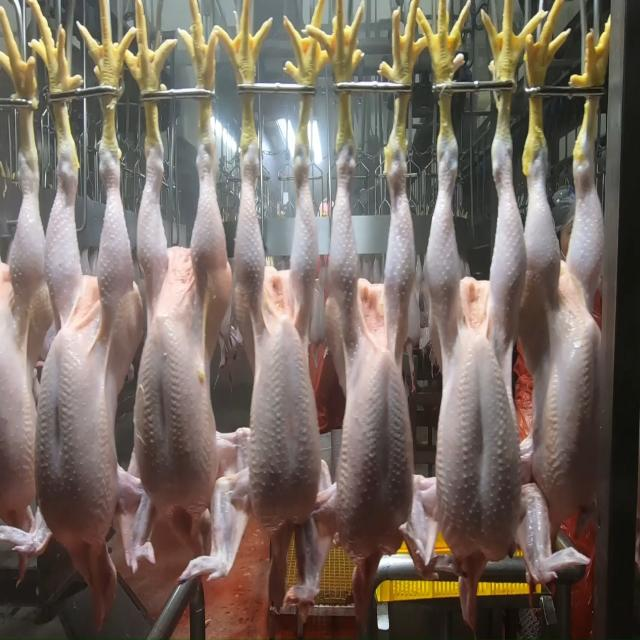chicken: (421, 106, 522, 562), (128, 130, 237, 536), (34, 127, 138, 546), (239, 130, 328, 553), (331, 124, 416, 558), (527, 111, 608, 519), (0, 135, 49, 559)
